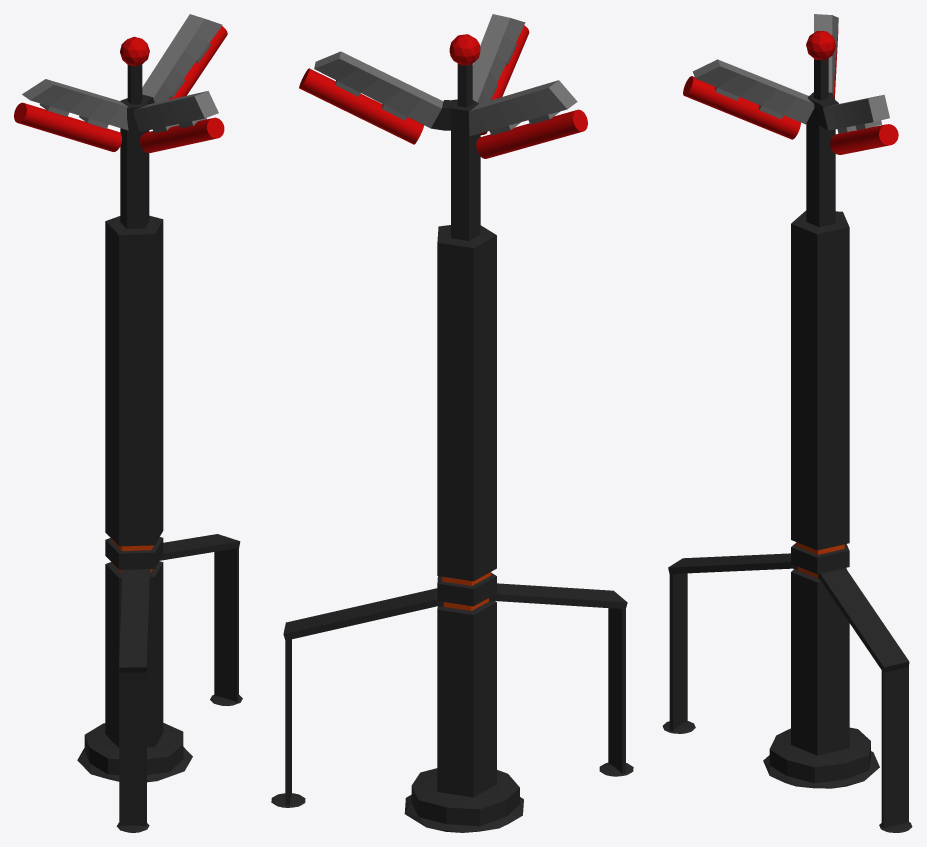
The model's file is Pole Lights.fbx.
The picture shows the model from 3 angles, left to right: view 1: azimuth 30°, elevation 25°; view 2: azimuth 150°, elevation 25°; view 3: azimuth 270°, elevation 25°; orthographic projection. The views are drawn at different scales.
Visible parts, largest first — view 1: Pole, Base, Base.001, Light.002, Base.002, Light.003, Light.001, Light; view 2: Pole, Base, Base.001, Light.001, Base.002, Light.002, Light, Light.003; view 3: Pole, Base.002, Light.003, Base, Light.001, Base.001, Light.
Boxes of the visible parts, x1=… form: Pole: x1=77, y1=64, x2=242, y2=832; Base: x1=142, y1=14, x2=222, y2=102; Base.001: x1=22, y1=79, x2=128, y2=130; Light.002: x1=14, y1=102, x2=121, y2=151; Base.002: x1=134, y1=91, x2=218, y2=132; Light.003: x1=140, y1=117, x2=224, y2=152; Light.001: x1=168, y1=26, x2=227, y2=99; Light: x1=120, y1=36, x2=149, y2=66; Pole: x1=271, y1=63, x2=633, y2=832; Base: x1=314, y1=51, x2=443, y2=128; Base.001: x1=468, y1=80, x2=577, y2=135; Light.001: x1=299, y1=68, x2=423, y2=144; Base.002: x1=472, y1=14, x2=525, y2=103; Light.002: x1=476, y1=109, x2=587, y2=158; Light: x1=449, y1=34, x2=480, y2=65; Light.003: x1=480, y1=25, x2=529, y2=135; Pole: x1=662, y1=58, x2=912, y2=832; Base.002: x1=692, y1=59, x2=814, y2=124; Light.003: x1=683, y1=76, x2=800, y2=139; Base: x1=823, y1=94, x2=889, y2=133; Light.001: x1=830, y1=124, x2=898, y2=154; Base.001: x1=814, y1=14, x2=838, y2=94; Light: x1=806, y1=30, x2=836, y2=60.
Size of the model in its own units: 1091 by 2941 by 903.
